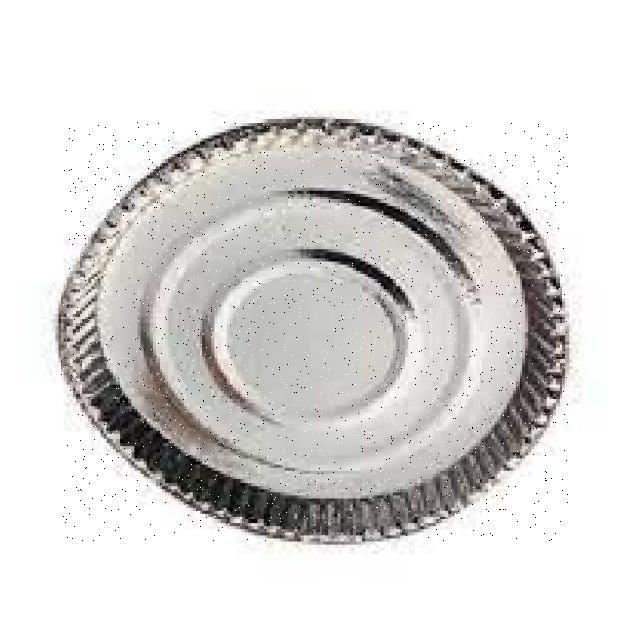metal: (61, 122, 568, 541)
